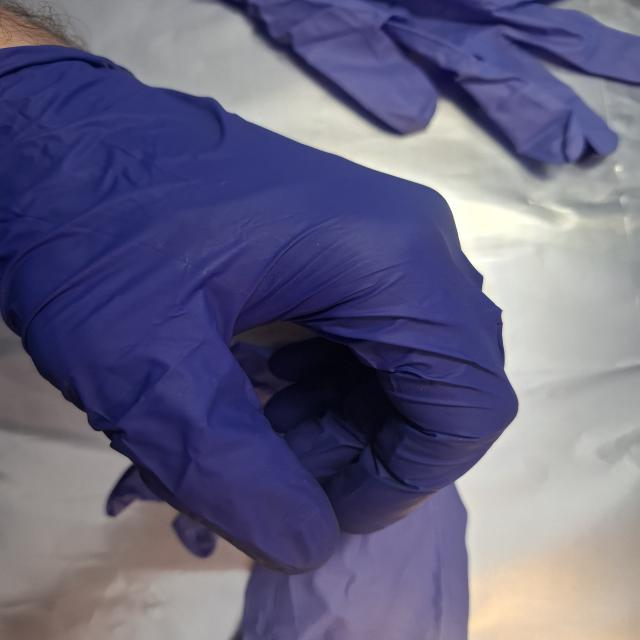glove_on: (0, 42, 525, 580)
